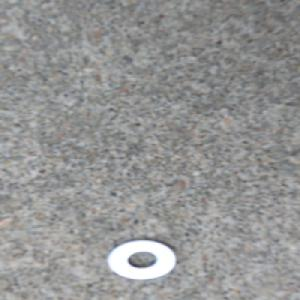Washer: (104, 238, 178, 281)
